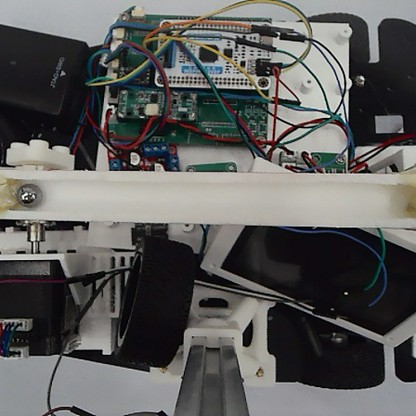ironball: (15, 180, 44, 209)
